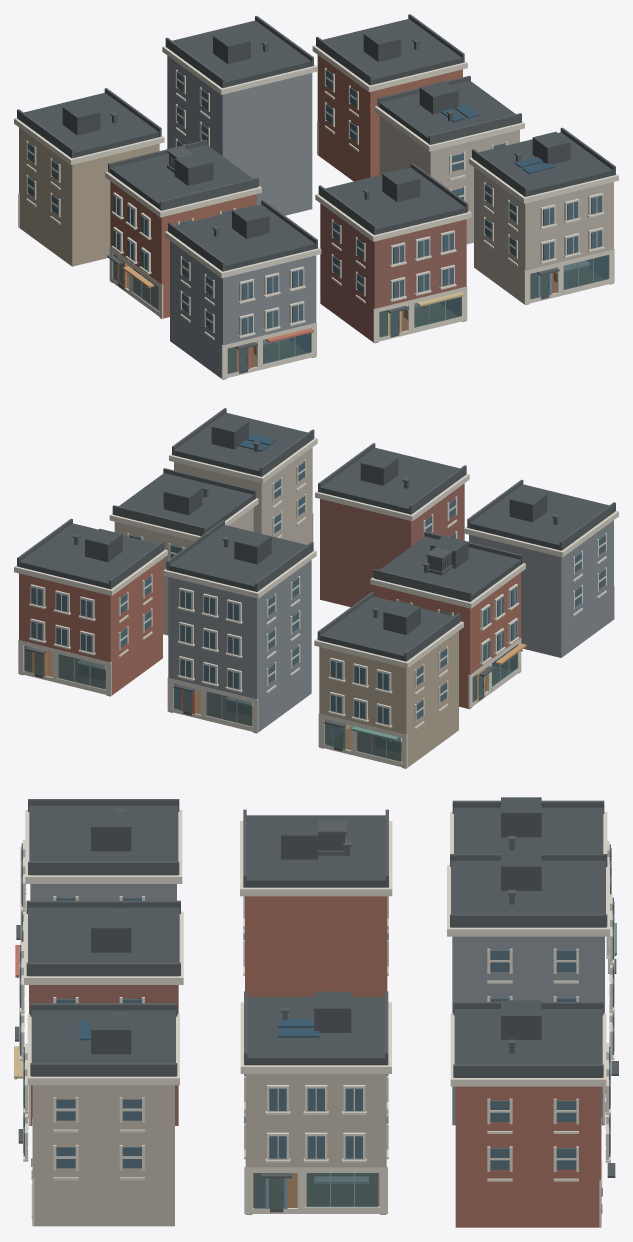
File: downtown-block-m2-m1.glb
3 views of the same model, one above another, from view 1: azimuth 30°, elevation 25°; view 2: azimuth 150°, elevation 25°; view 3: azimuth 270°, elevation 25° (orthographic). The views are drawn at different scales.
Parts seen in each view (by area): view 1: urban_townhouse_03.003, urban_townhouse_02.003, urban_townhouse_07.003, urban_townhouse_04.003, urban_townhouse_06.003, urban_townhouse_05.003, urban_townhouse_10.002, urban_townhouse_04.001; view 2: urban_townhouse_07.003, urban_townhouse_10.002, urban_townhouse_06.003, urban_townhouse_02.003, urban_townhouse_03.003, urban_townhouse_05.003, urban_townhouse_04.003, urban_townhouse_04.001; view 3: urban_townhouse_10.002, urban_townhouse_04.003, urban_townhouse_04.001, urban_townhouse_05.003, urban_townhouse_07.003, urban_townhouse_03.003, urban_townhouse_02.003, urban_townhouse_06.003.
Part boxes in pixels (bbox=[...]): urban_townhouse_03.003: bbox=[315, 163, 471, 343]; urban_townhouse_02.003: bbox=[165, 200, 321, 379]; urban_townhouse_07.003: bbox=[162, 16, 317, 215]; urban_townhouse_04.003: bbox=[469, 127, 618, 305]; urban_townhouse_06.003: bbox=[14, 88, 164, 266]; urban_townhouse_05.003: bbox=[105, 140, 261, 318]; urban_townhouse_10.002: bbox=[312, 14, 467, 181]; urban_townhouse_04.001: bbox=[374, 75, 524, 244]; urban_townhouse_07.003: bbox=[163, 520, 316, 733]; urban_townhouse_10.002: bbox=[14, 518, 167, 696]; urban_townhouse_06.003: bbox=[314, 592, 463, 768]; urban_townhouse_02.003: bbox=[464, 479, 618, 657]; urban_townhouse_03.003: bbox=[315, 443, 469, 607]; urban_townhouse_05.003: bbox=[370, 531, 526, 709]; urban_townhouse_04.003: bbox=[169, 408, 317, 544]; urban_townhouse_04.001: bbox=[109, 468, 258, 635]; urban_townhouse_10.002: bbox=[450, 1000, 615, 1227]; urban_townhouse_04.003: bbox=[18, 1003, 179, 1226]; urban_townhouse_04.001: bbox=[240, 991, 391, 1214]; urban_townhouse_05.003: bbox=[240, 809, 392, 996]; urban_townhouse_07.003: bbox=[447, 851, 618, 1125]; urban_townhouse_03.003: bbox=[14, 900, 183, 1125]; urban_townhouse_02.003: bbox=[15, 799, 182, 977]; urban_townhouse_06.003: bbox=[450, 797, 616, 973].
Bounding box in the file's own units: 34.57 × 13.69 × 32.75.
